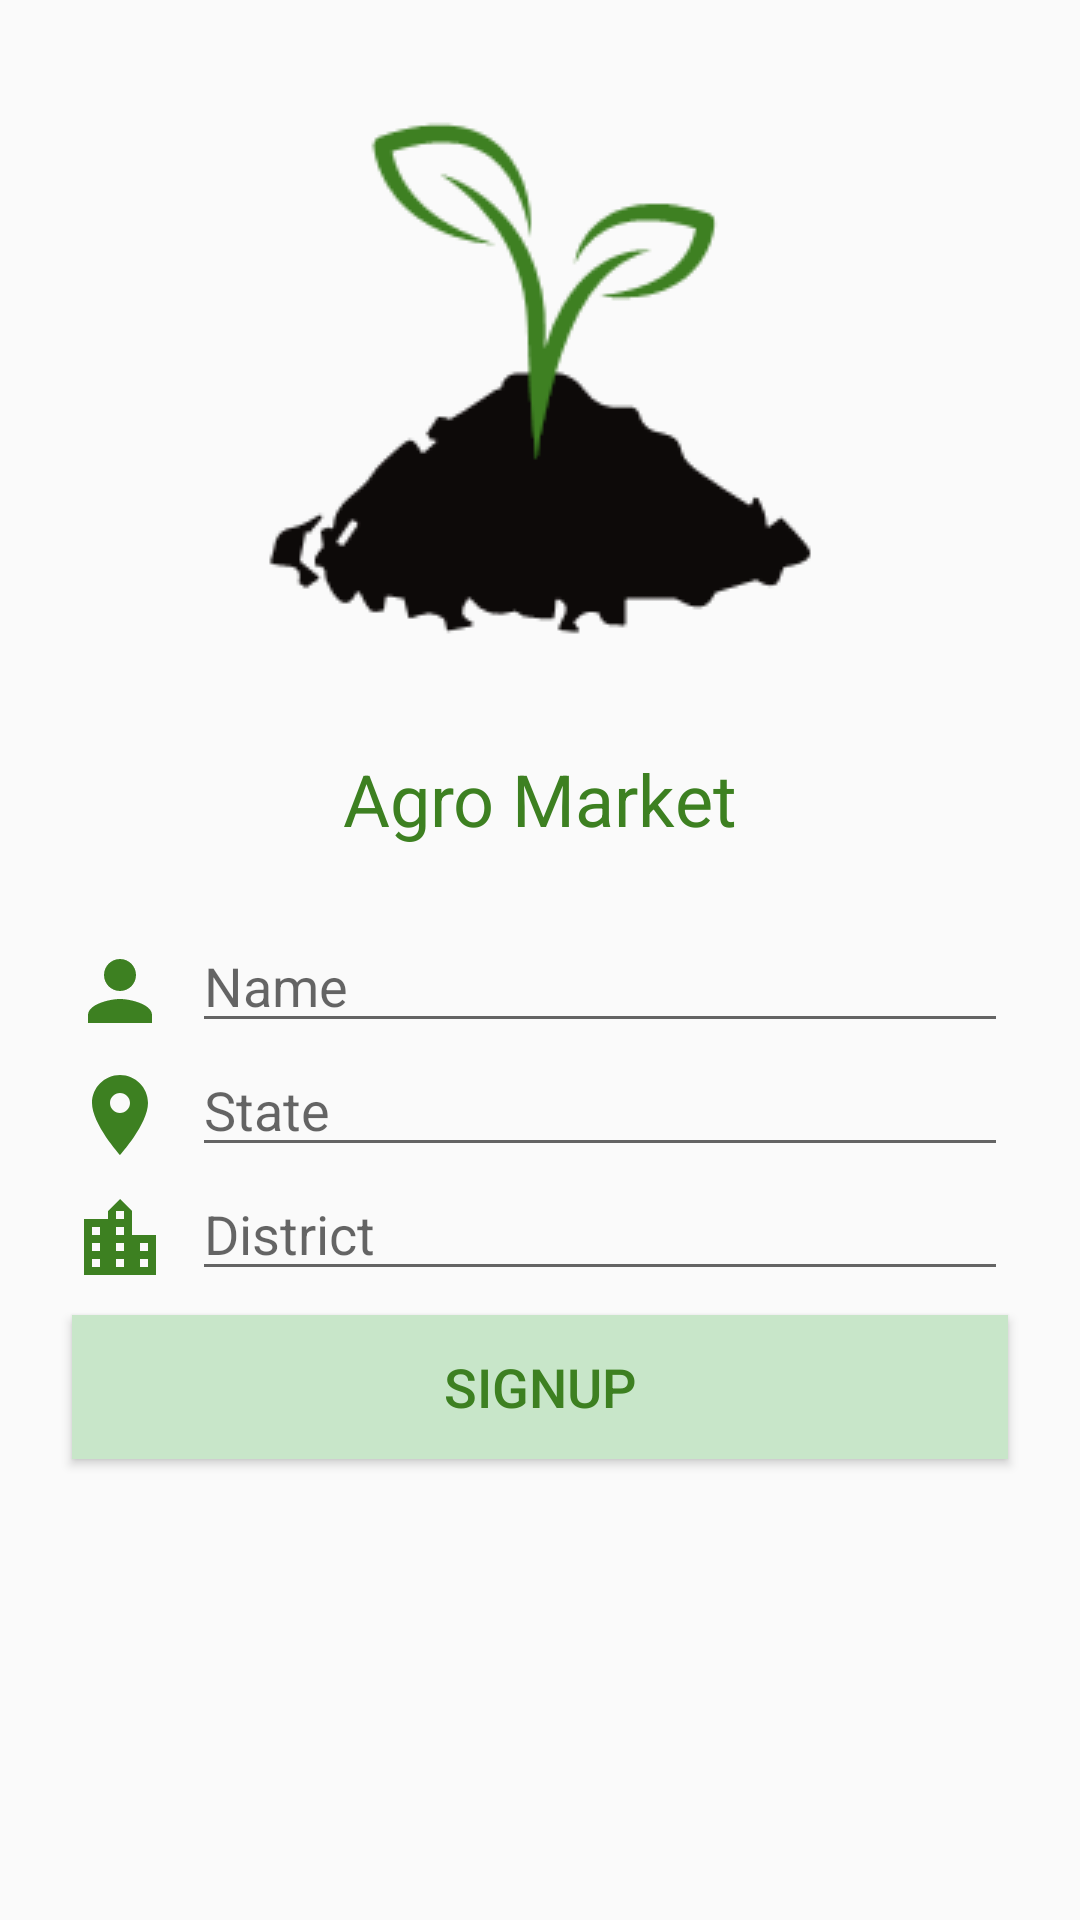

Named icons in this screenshot (1080w x 1920h) and their bounding boxes, (x1, y1, x2, y2):
location city: (84, 1199, 156, 1275)
location on: (92, 1075, 148, 1155)
person: (88, 959, 152, 1023)
